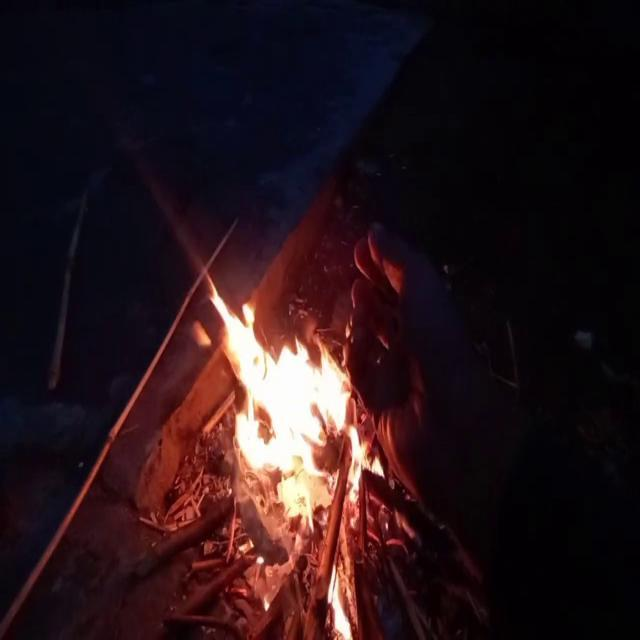Fire: (202, 270, 387, 548), (322, 559, 361, 640)
